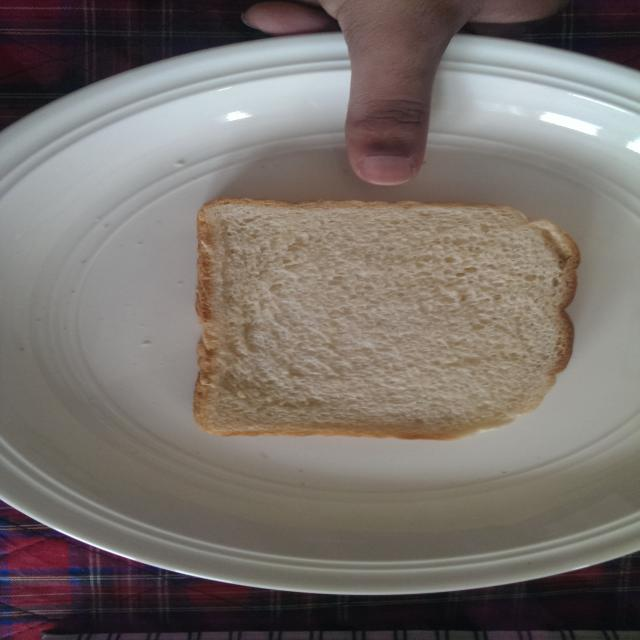bread: (192, 192, 586, 461)
